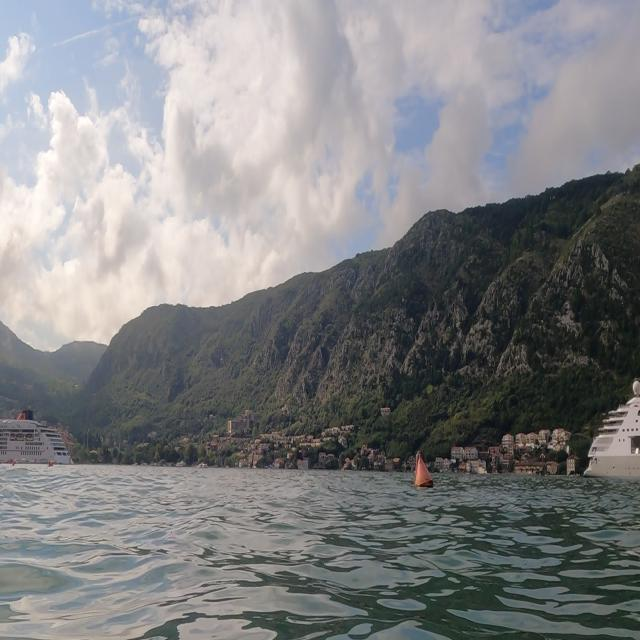boat: (582, 376, 640, 490), (0, 404, 78, 476)
buoy: (410, 448, 437, 496)
